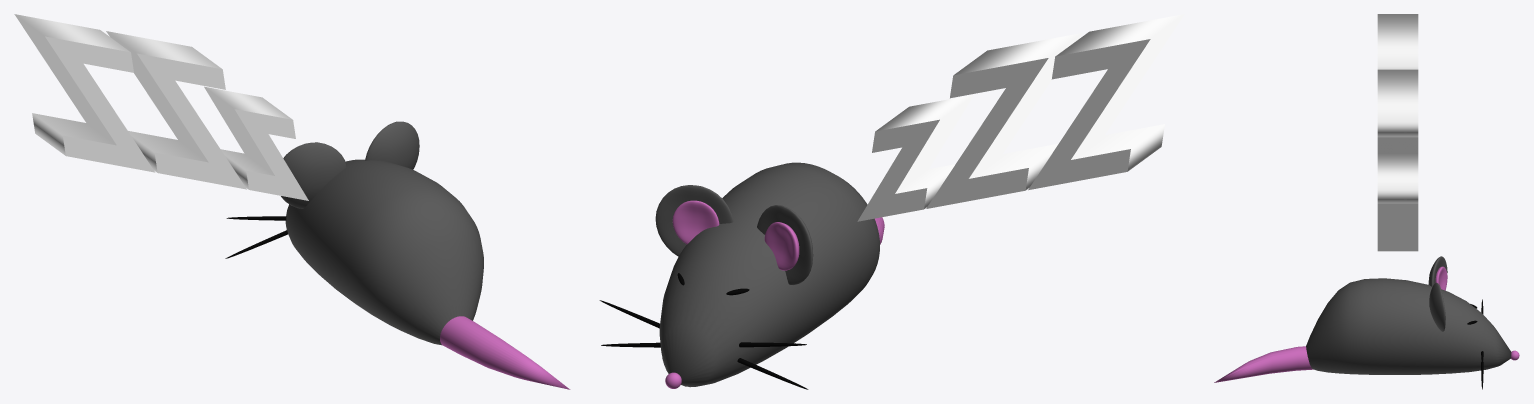
Rendered from Zzz.obj.
The picture shows the model from 3 angles, left to right: view 1: azimuth 30°, elevation 25°; view 2: azimuth 150°, elevation 25°; view 3: azimuth 270°, elevation 25°; orthographic projection. The views are drawn at different scales.
Visible parts, largest first — view 1: Text, Cône, Cône.001, Sphère.002, Sphère.012; view 2: Text, Cône, Sphère.012, Sphère.002, Sphère.001, Sphère.011, Sphère.007, Sphère.005; view 3: Cône, Text, Cône.001, Sphère.012, Sphère.002.
Part boxes in pixels (<box>): Text: <box>14,14,308,200</box>; Cône: <box>285,159,483,345</box>; Cône.001: <box>440,316,570,389</box>; Sphère.002: <box>281,142,346,208</box>; Sphère.012: <box>365,121,419,169</box>; Text: <box>857,14,1184,221</box>; Cône: <box>659,162,879,387</box>; Sphère.012: <box>655,185,733,256</box>; Sphère.002: <box>757,205,813,284</box>; Sphère.001: <box>672,200,719,244</box>; Sphère.011: <box>764,222,799,270</box>; Sphère.007: <box>599,300,808,389</box>; Sphère.005: <box>601,342,806,347</box>; Cône: <box>1306,278,1511,374</box>; Text: <box>1377,14,1418,251</box>; Cône.001: <box>1214,346,1313,382</box>; Sphère.012: <box>1429,282,1445,331</box>; Sphère.002: <box>1428,256,1447,286</box>.
Bounding box in the file's own units: 6.92 × 5.38 × 6.18.
